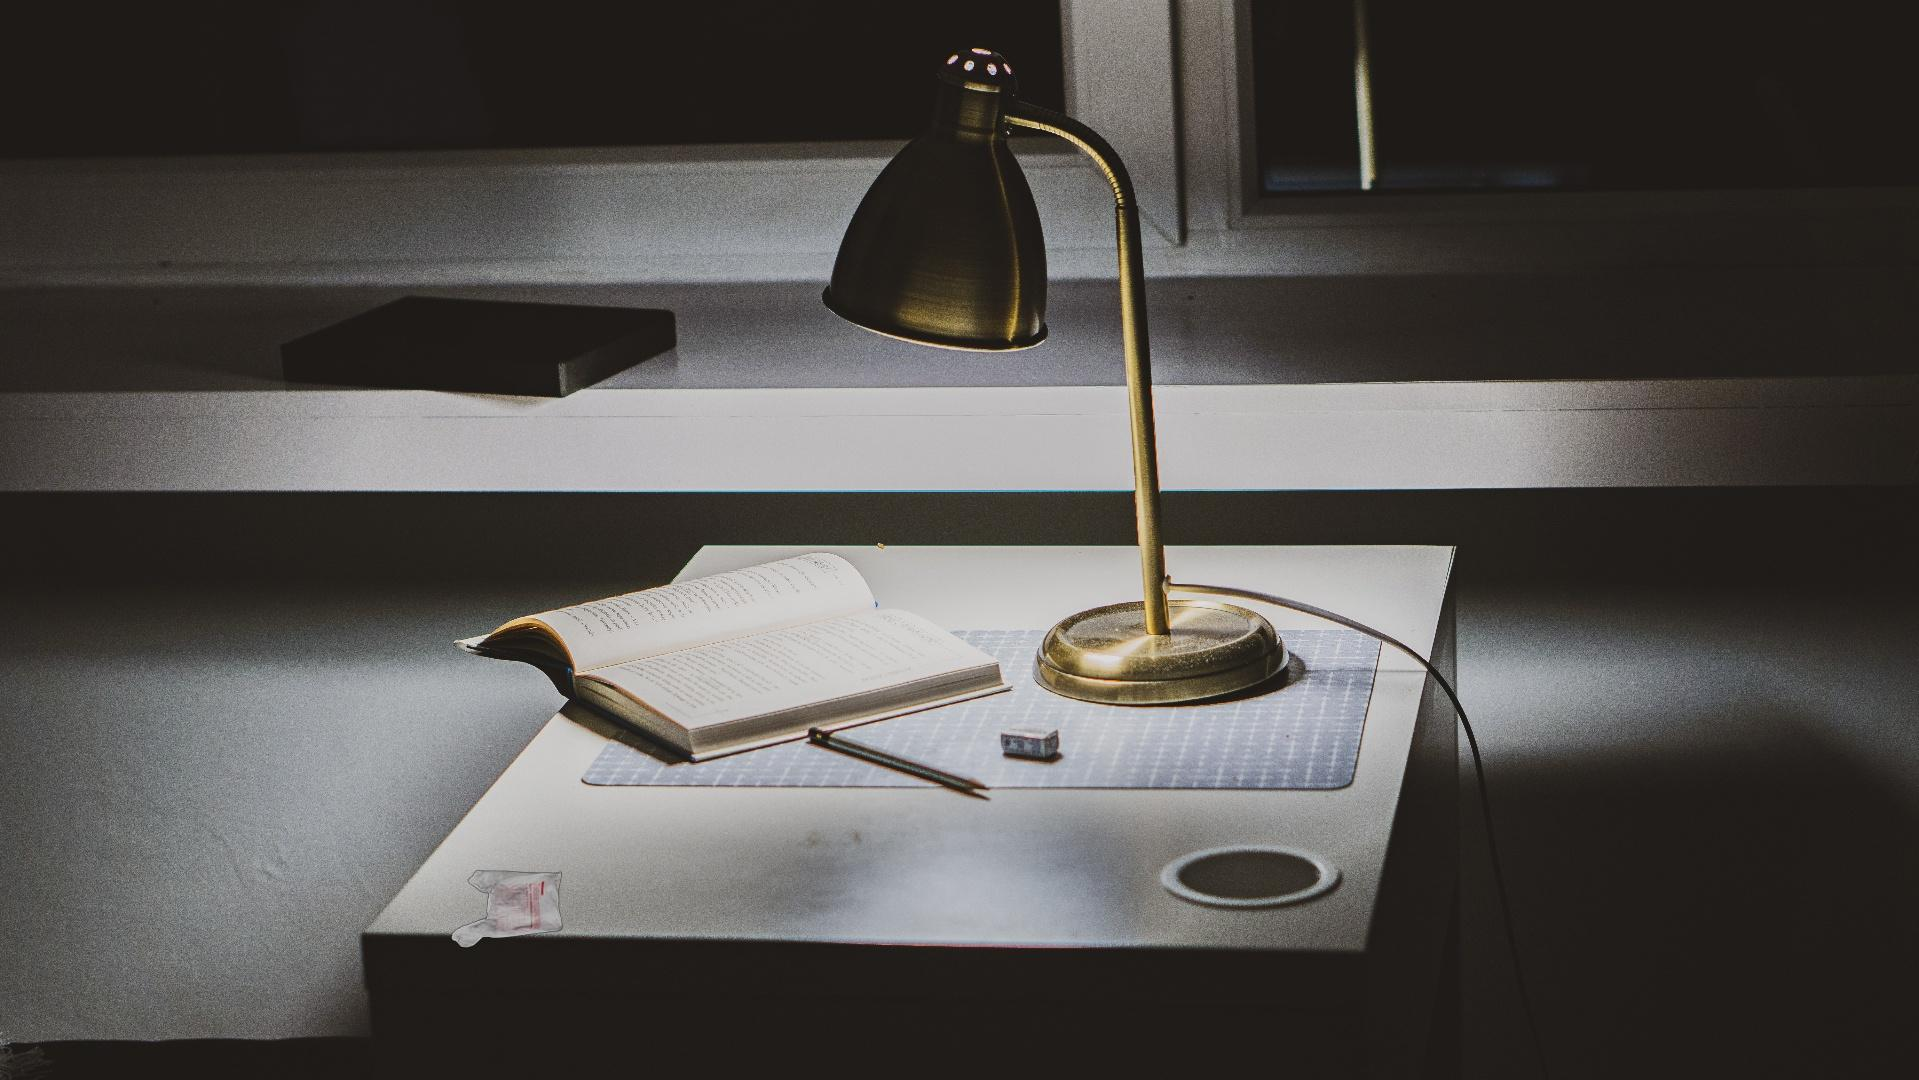plastic-bag: (448, 866, 563, 951)
